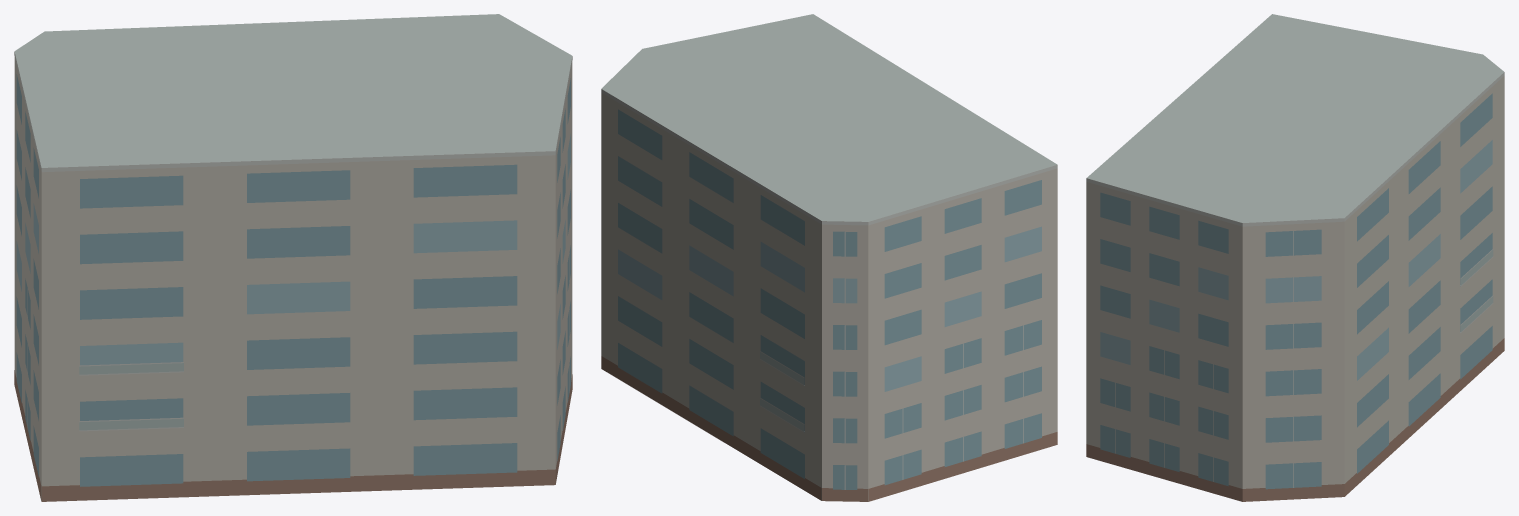
File: survey-upis-32477386.glb
The picture shows the model from 3 angles, left to right: view 1: azimuth 30°, elevation 25°; view 2: azimuth 150°, elevation 25°; view 3: azimuth 270°, elevation 25°; orthographic projection. The views are drawn at different scales.
Parts seen in each view (by area): view 1: survey-upis-32477386.tmp; view 2: survey-upis-32477386.tmp; view 3: survey-upis-32477386.tmp.
Boxes of the visible parts, left/top/right/bottom form: survey-upis-32477386.tmp: left=14, top=14, right=572, bottom=501; survey-upis-32477386.tmp: left=601, top=14, right=1057, bottom=501; survey-upis-32477386.tmp: left=1086, top=14, right=1504, bottom=501.
Size of the model in its own units: 30.9 by 19.2 by 26.11.
